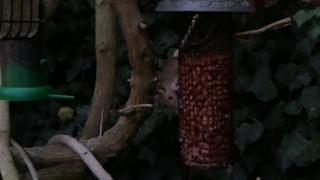mouse: (154, 58, 180, 108)
